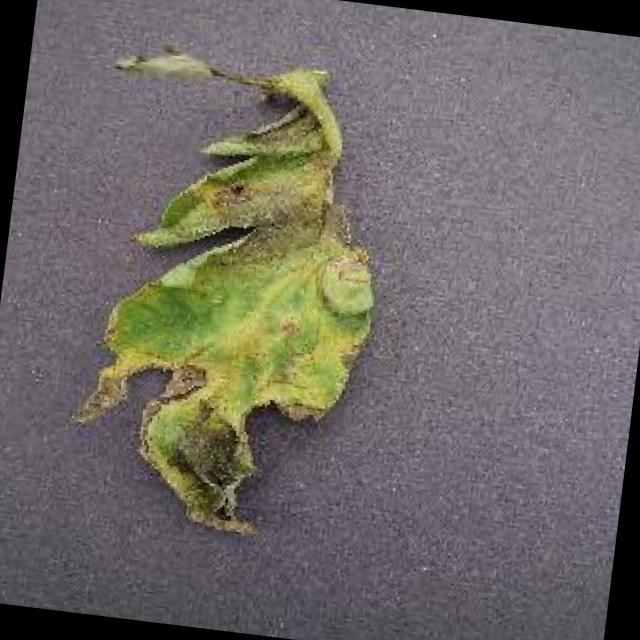Tomato_Late_Blight: (39, 19, 432, 569)
